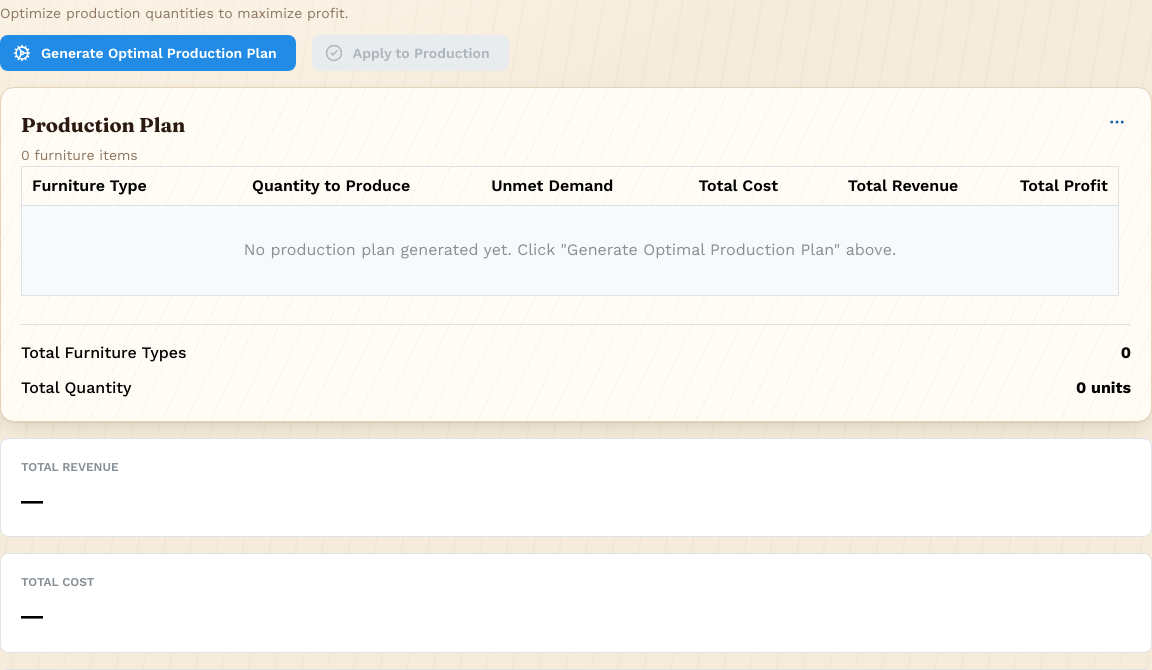
Scenario: ProductionAllocationPage generate mode modal › Continue sends the default Resource-Based mode, closes the modal, and shows it in the result
What coordinates should you click on to do the following:
click the button "Generate Optimal Production Plan"
I would click on:
 (148, 53)
Its box is [0, 35, 296, 71].
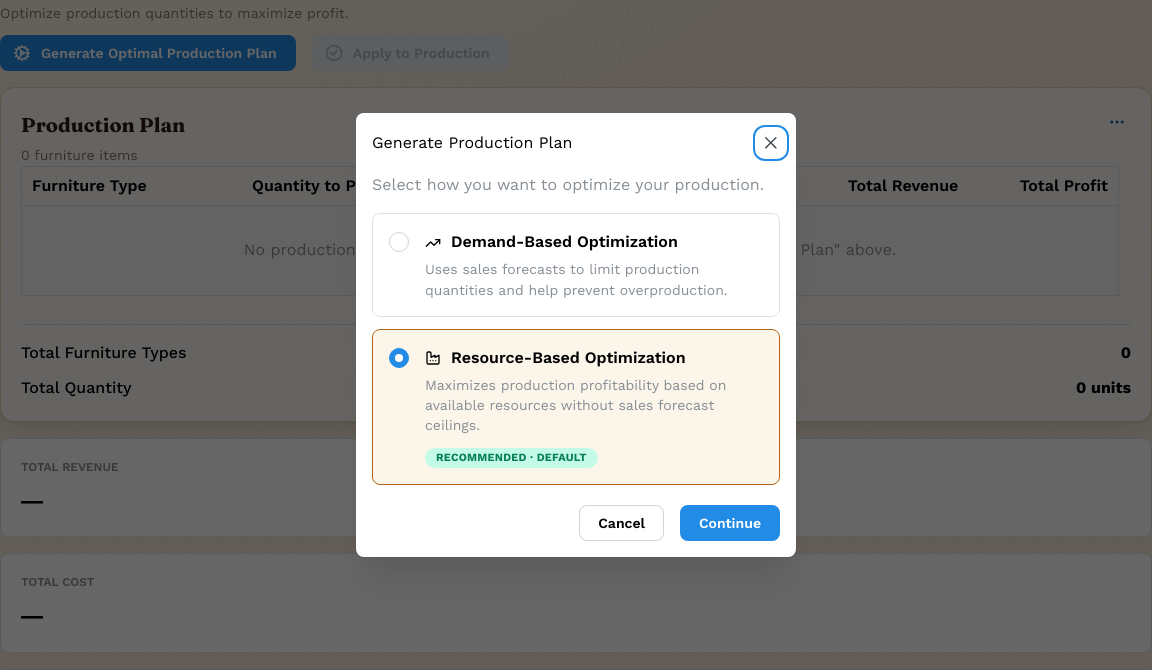
Expected: the heading "Generate Production Plan" is shown, [372, 135, 572, 151]
What coordinates should you click on to do the following:
click the button "Continue"
I would click on:
 (730, 523)
Its box is [680, 505, 780, 541].
(page scrolled)
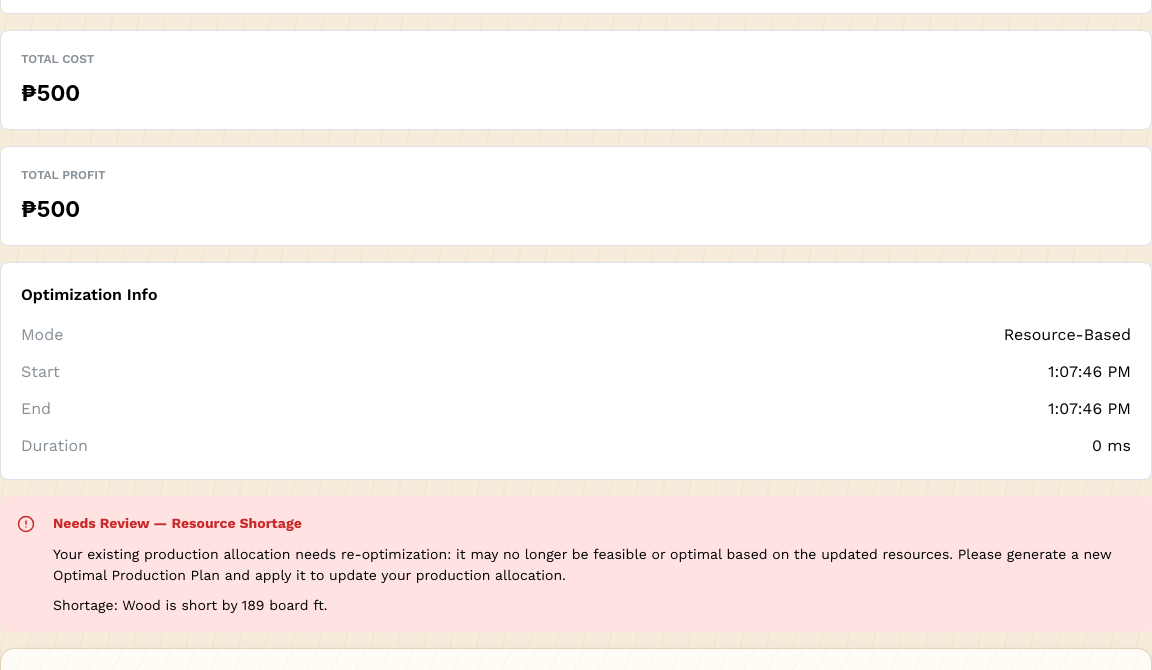
Expected: the heading "Generate Production Plan" is gone
Expected: the text "Resource-Based" is shown, [1004, 323, 1131, 348]
